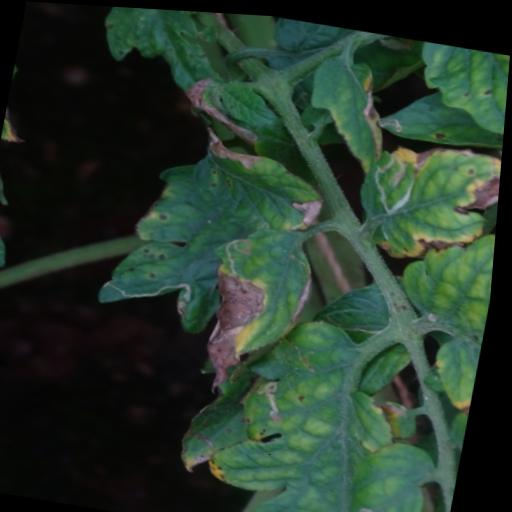Early Blight: (191, 211, 328, 404), (352, 123, 505, 265)
Leaf_Miner: (99, 262, 204, 305), (365, 150, 423, 213), (254, 376, 296, 420)
